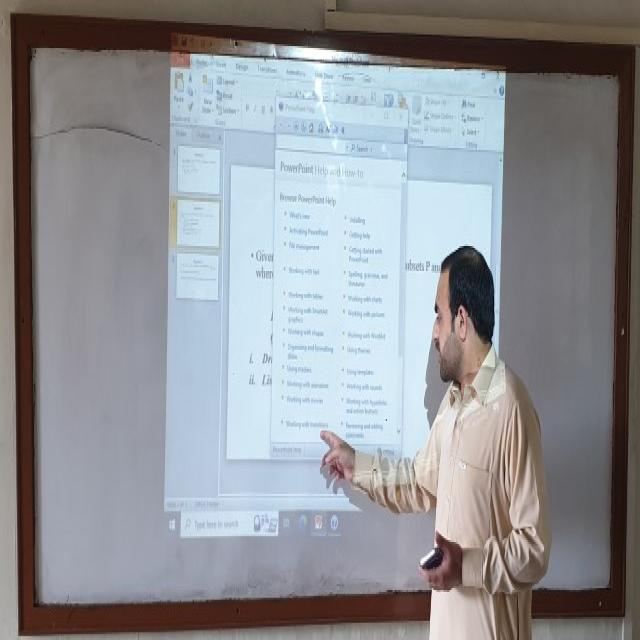Instructor: (420, 229, 537, 640)
Slide: (159, 28, 506, 548)
White-board: (20, 24, 629, 611)
